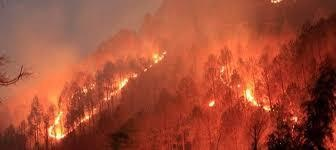fire: (241, 81, 274, 113), (46, 108, 68, 141)
